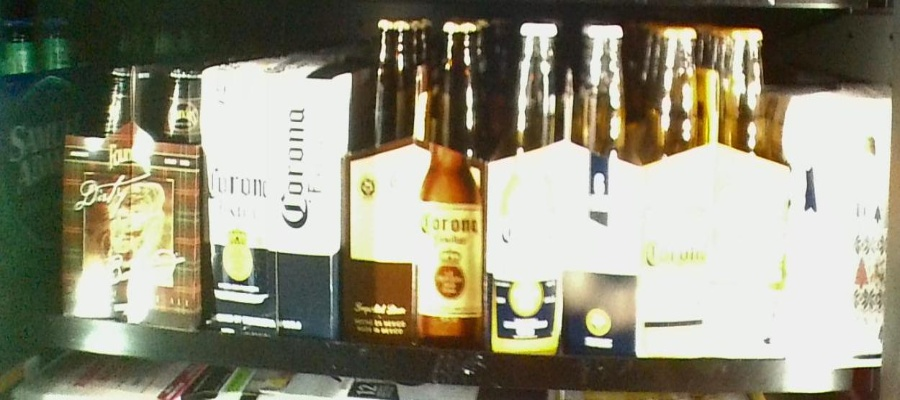bottle: (636, 15, 788, 367), (346, 18, 488, 356), (492, 19, 634, 356), (50, 63, 207, 325), (199, 66, 339, 342), (788, 99, 888, 356)
